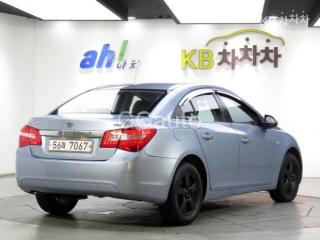0: (74, 141, 79, 150)
5: (53, 140, 57, 150)
6: (57, 140, 62, 150), (78, 141, 83, 150)
7: (69, 141, 74, 150), (83, 142, 88, 151)
plate: (43, 136, 97, 156)
마: (61, 141, 66, 150)
